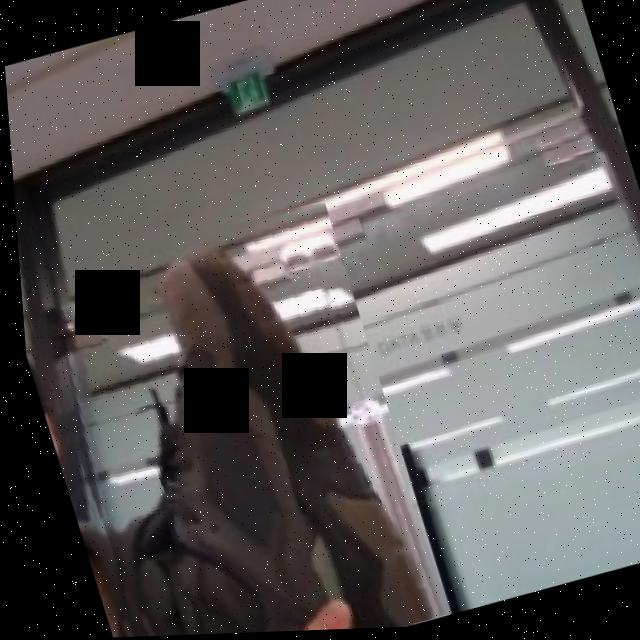shoe: (11, 185, 441, 640)
